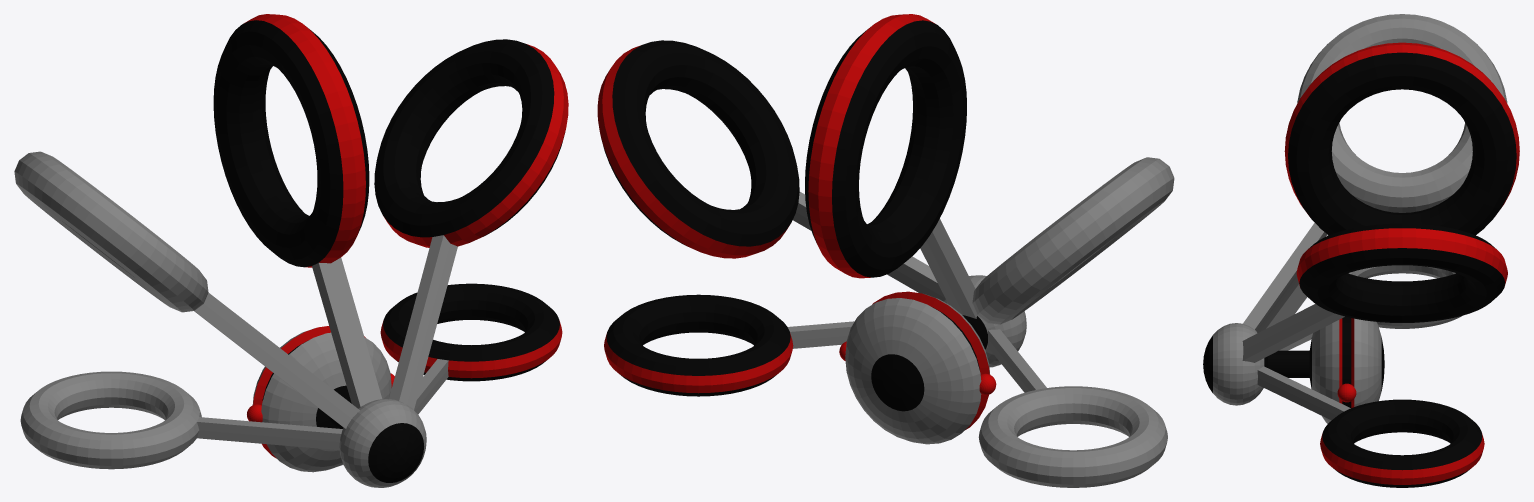
The model's file is Minion H.fbx.
The picture shows the model from 3 angles, left to right: view 1: azimuth 30°, elevation 25°; view 2: azimuth 150°, elevation 25°; view 3: azimuth 270°, elevation 25°; orthographic projection. The views are drawn at different scales.
Visible parts, largest first — view 1: Torus; view 2: Torus; view 3: Torus.
Boxes of the visible parts, x1,y1,x2,y2 form: Torus: [14, 14, 568, 487]; Torus: [597, 14, 1174, 487]; Torus: [1203, 14, 1519, 487].
Bounding box in the file's own units: 575 × 448 × 337.
